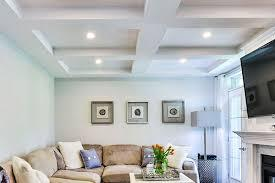TV: (236, 41, 275, 123)
door: (224, 88, 247, 183)
light: (188, 105, 222, 161), (82, 29, 100, 43), (198, 28, 217, 41), (92, 59, 106, 70), (178, 57, 188, 66)
sofa: (4, 142, 200, 183)
